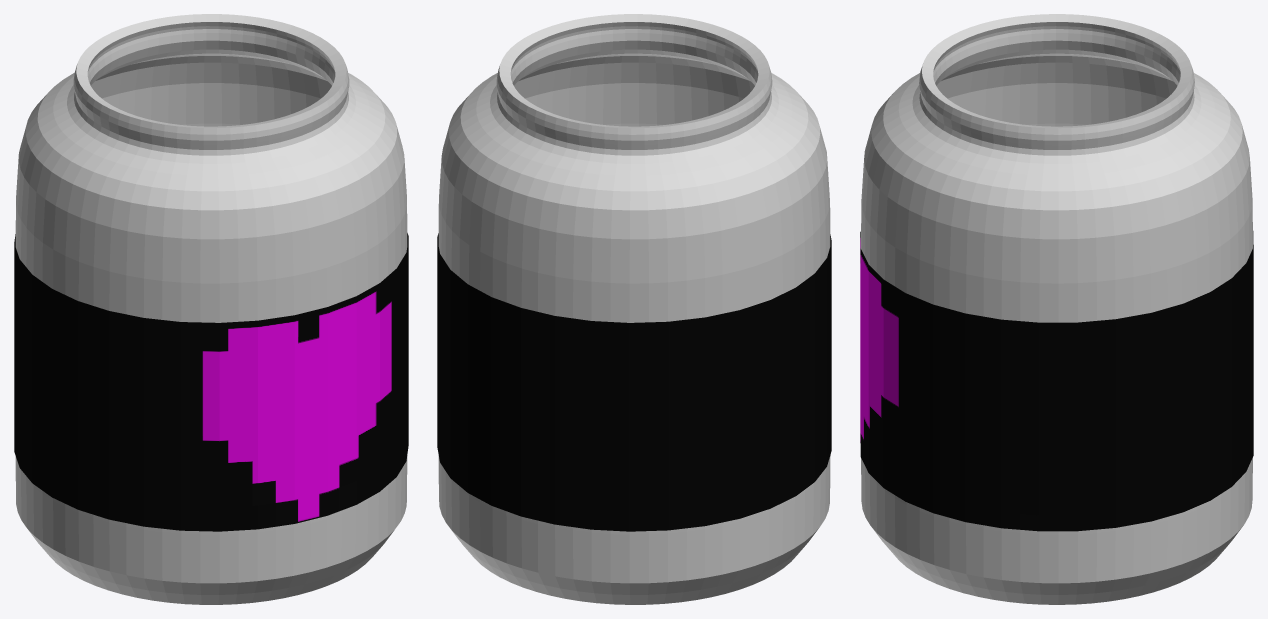
Rendered from jam.glb.
The picture shows the model from 3 angles, left to right: view 1: azimuth 30°, elevation 25°; view 2: azimuth 150°, elevation 25°; view 3: azimuth 270°, elevation 25°; orthographic projection.
Parts seen in each view (by area): view 1: Jar, Label; view 2: Jar, Label; view 3: Jar, Label.
Part boxes in pixels (x1,y1,x2,y2): Jar: (15, 14, 407, 604); Label: (14, 233, 408, 531); Jar: (438, 14, 830, 604); Label: (437, 233, 831, 531); Jar: (861, 14, 1252, 604); Label: (860, 231, 1253, 531).
Bounding box in the file's own units: 1.99 × 2.58 × 1.99.
3 materials, 1 textured.
